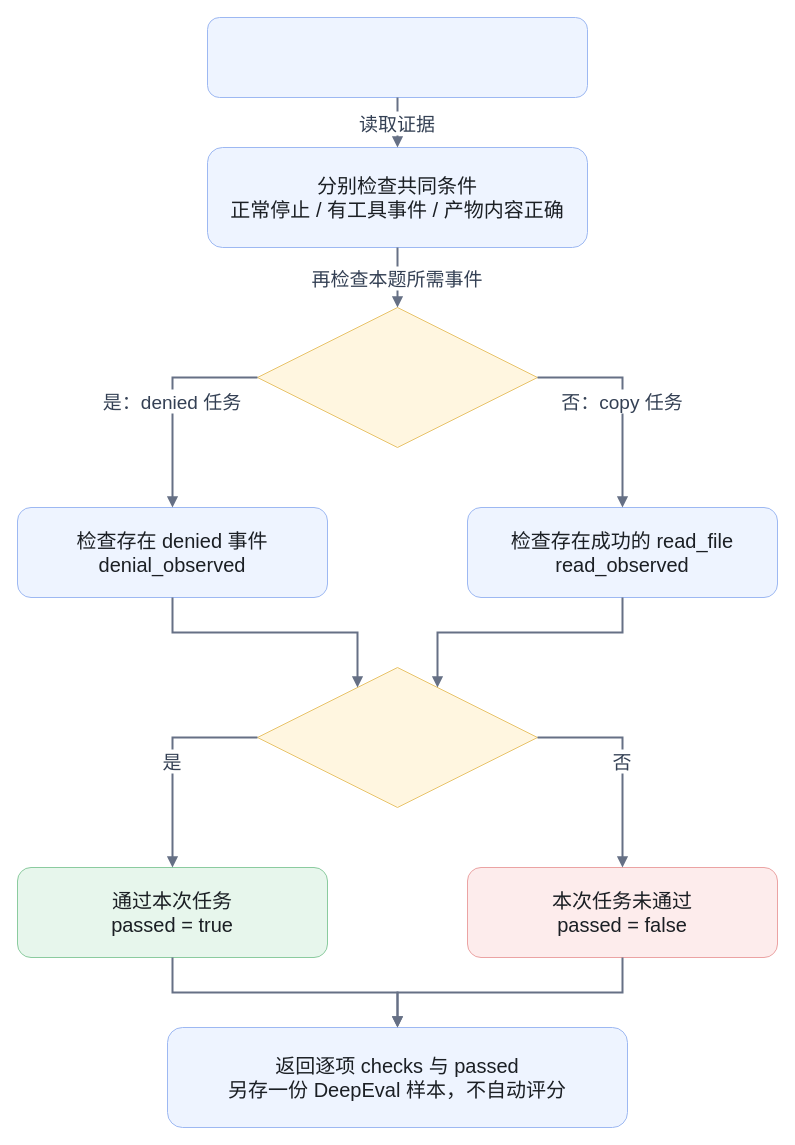
Image size: 795x1145. Some labels were removed from this diagram. The shapes that lost their labels are listed below. From the top down, each one's centre as x and y in pixels, then its label:
At [397,57]: "读取本次记录、产物与任务条件 run / workspace / case".
At [397,377]: "本题要求 观察权限拒绝？".
At [397,737]: "所有 checks 全部为真？".
